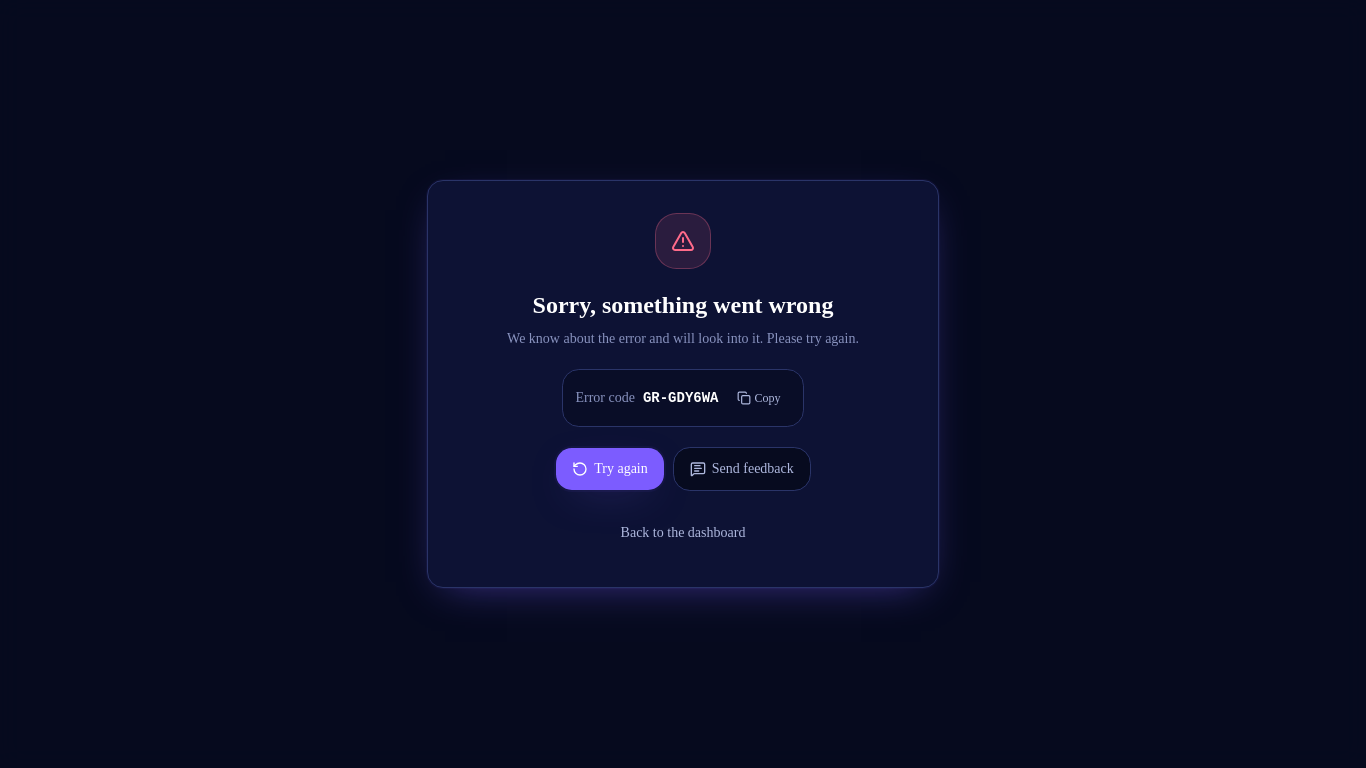
Test: ErrorScreen › sends the note when there is one and offers a retry when sending fails
Click the button "Send feedback". click: (742, 469)
box: [673,447,811,491]
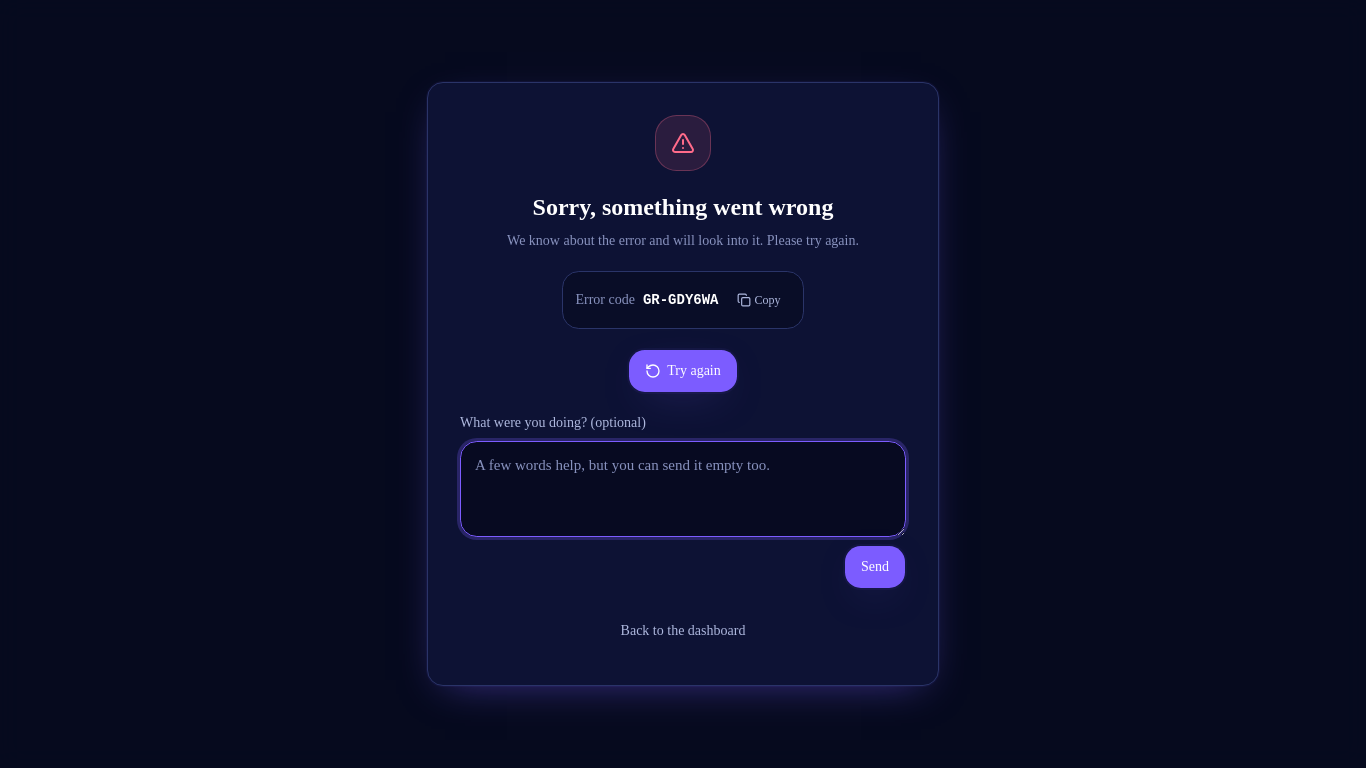
Type "  I saved a contact  " into the text box labelled "What were you doing? (optional)". click: (683, 489)
box: [460,441,906,537]
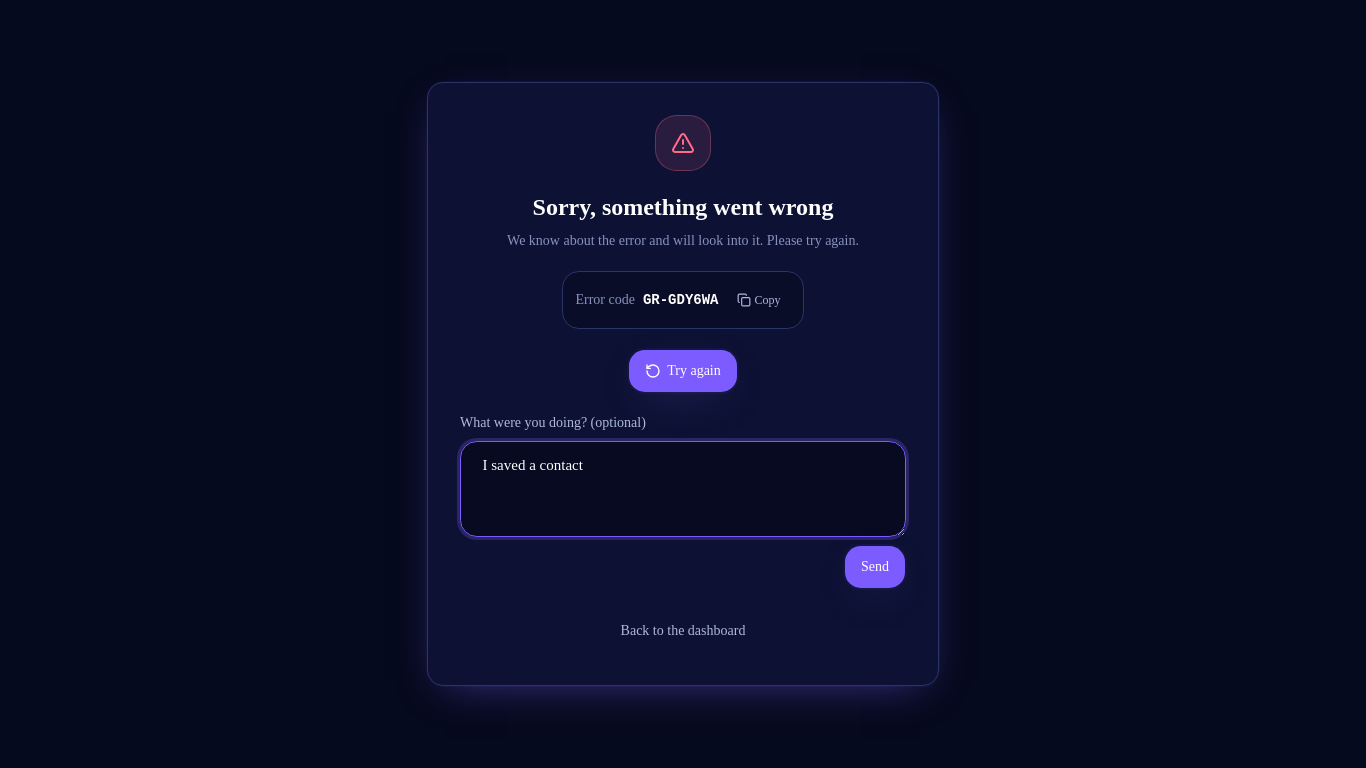
Click the button "Send". click: (875, 567)
box: [844,545,906,589]
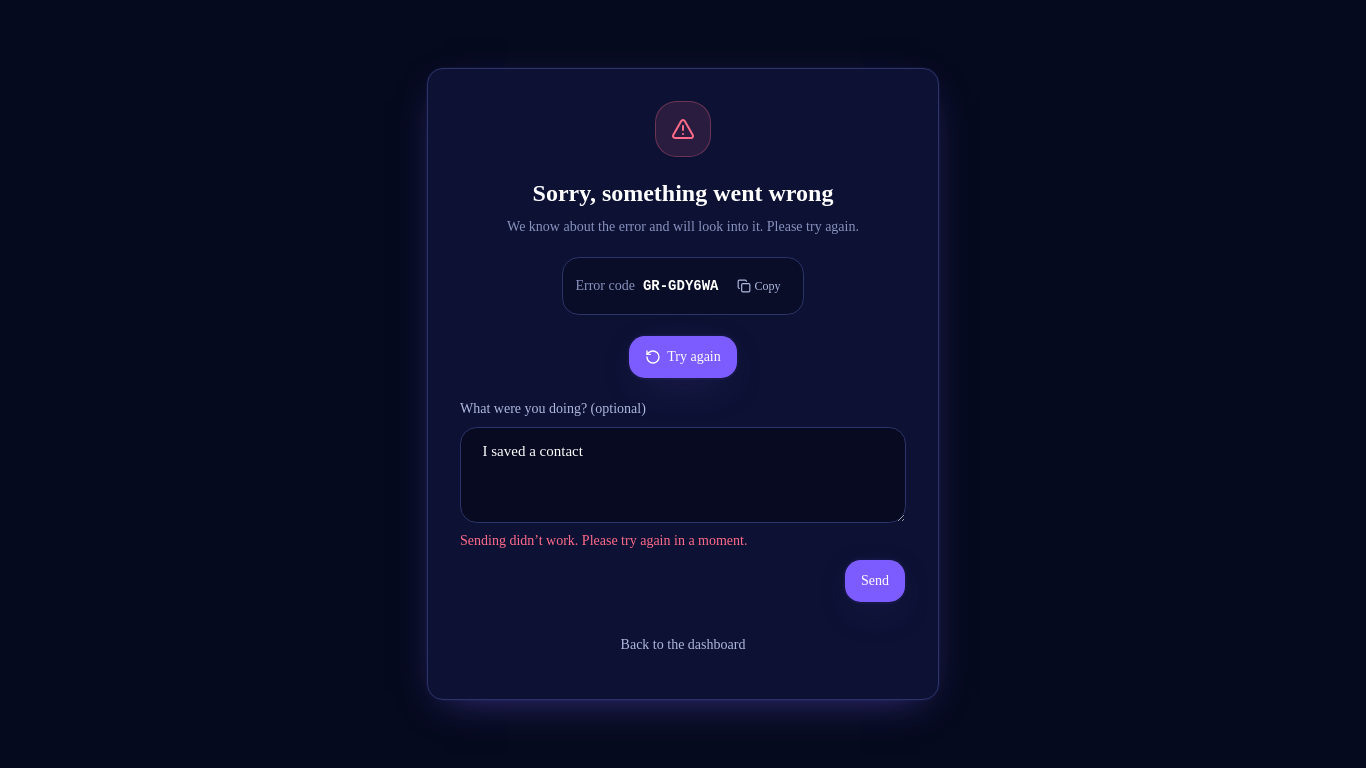
Now the message reads "Sending didn’t work. Please try again in a moment.", box [460,533,748,548]
Click the button "Send". click: (875, 581)
box: [844,559,906,603]
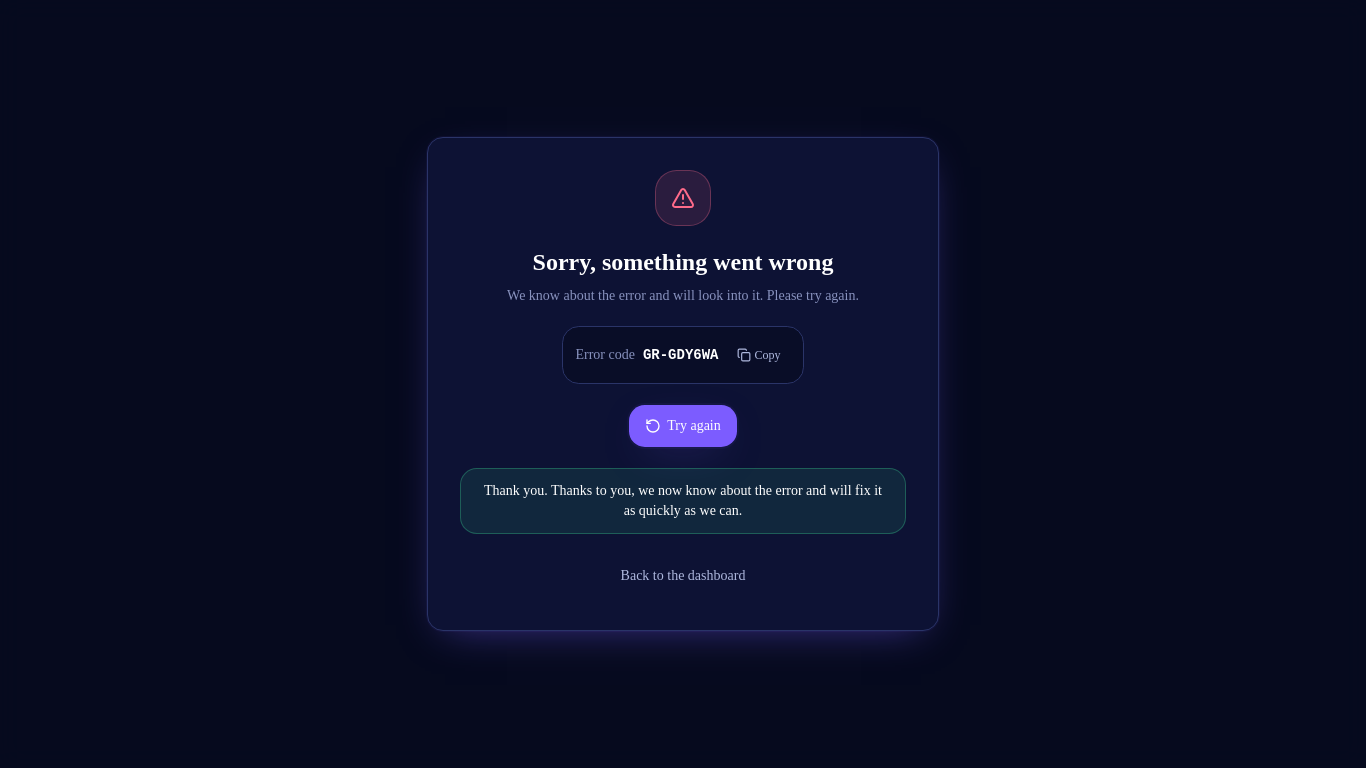
Now the text "Thank you. Thanks to you, we now know about the error and will fix it as quickly as we can." is shown, box [484,483,882,518]
